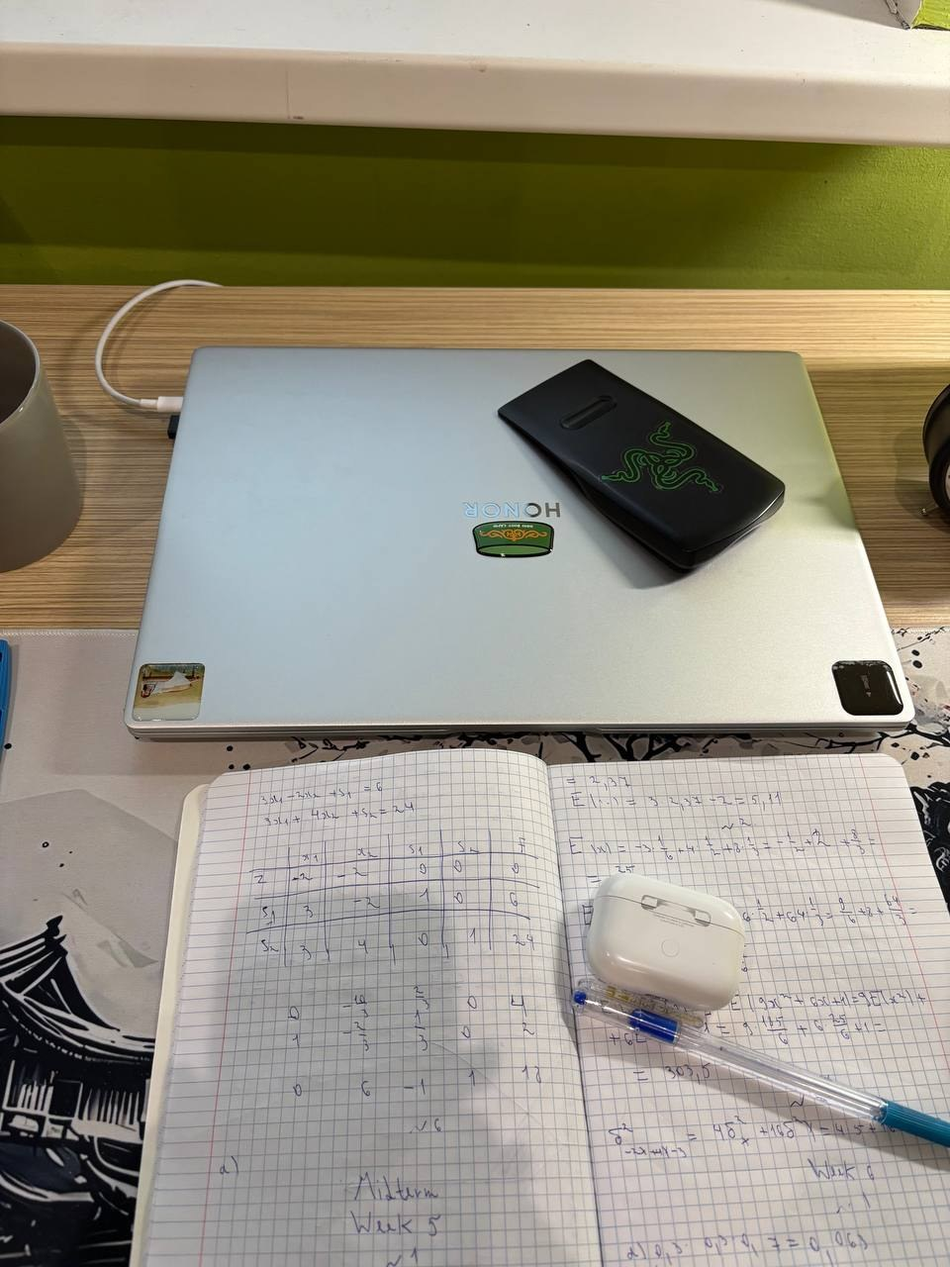cell phone: (833, 659, 903, 715)
laptop: (123, 345, 916, 739)
